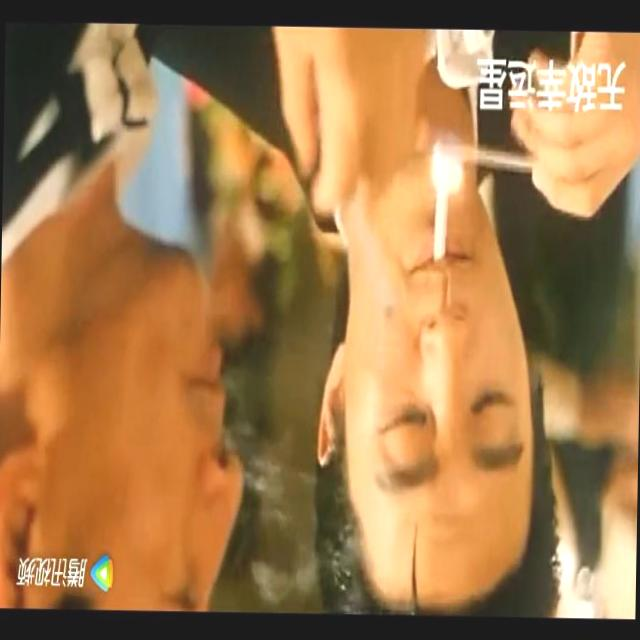cigarette: (428, 178, 451, 290)
